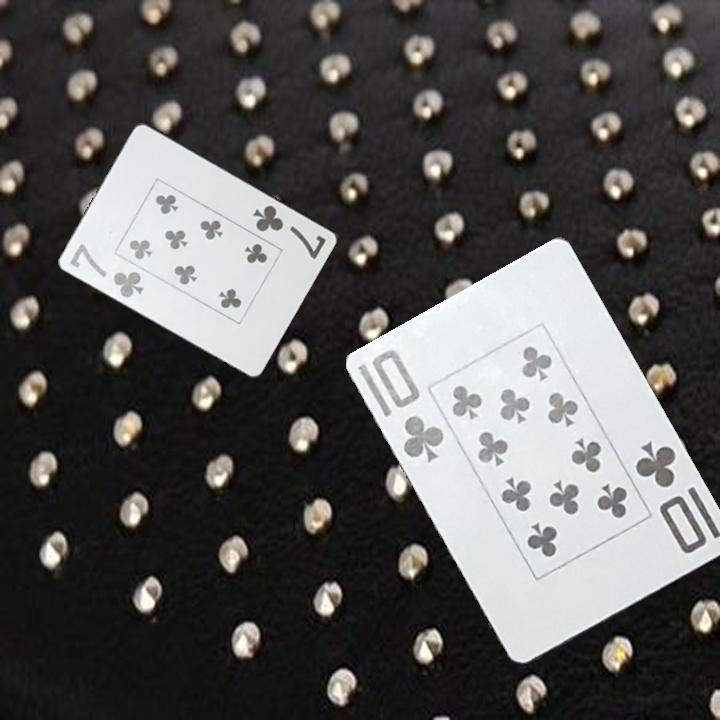7c: (249, 201, 330, 262), (66, 240, 147, 301)
Tc: (355, 344, 448, 467), (630, 437, 711, 557)
